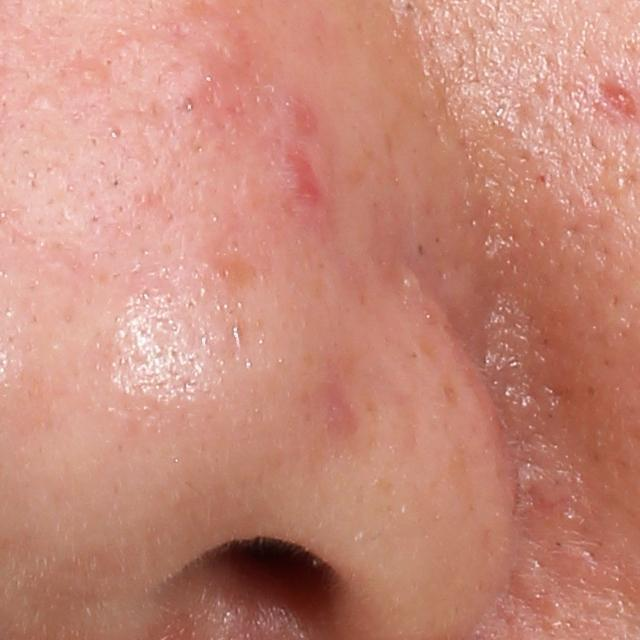hypertrophic_scar: (272, 73, 340, 253), (101, 32, 215, 115), (508, 553, 557, 611)
